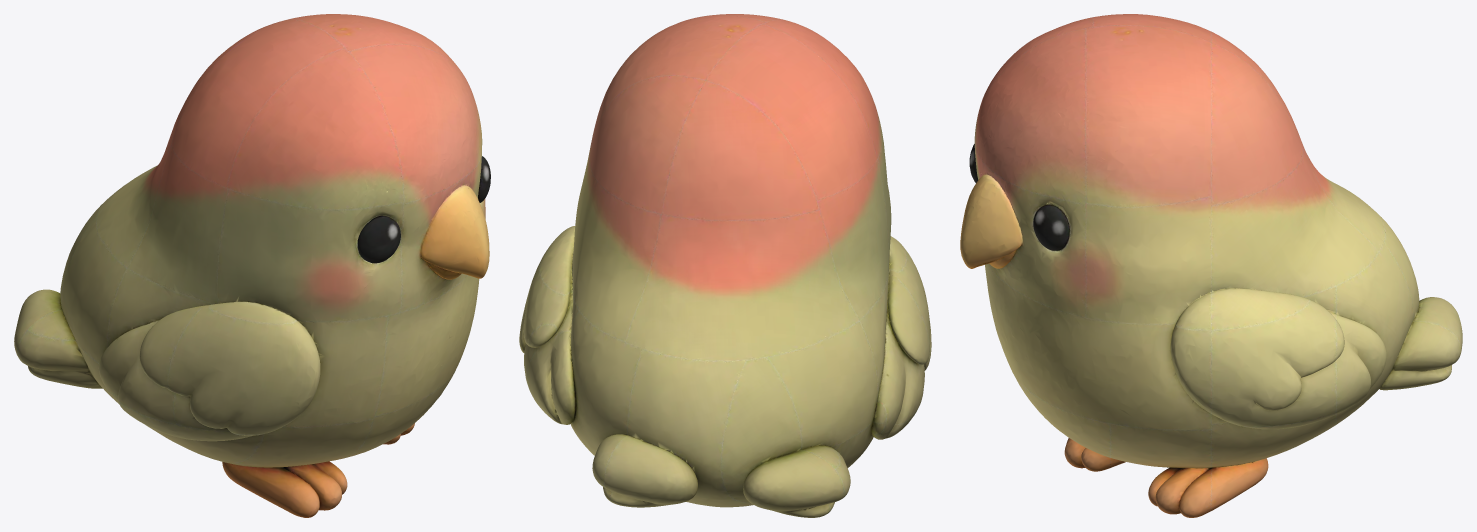
Rendered from model-mobile-v001.glb.
3 renders of one model, left to right at view 1: azimuth 30°, elevation 25°; view 2: azimuth 150°, elevation 25°; view 3: azimuth 270°, elevation 25°, orthographic. The views are drawn at different scales.
Parts seen in each view (by area): view 1: tmpum7r6r4f.obj; view 2: tmpum7r6r4f.obj; view 3: tmpum7r6r4f.obj.
Boxes of the visible parts, x1,y1,x2,y2 form: tmpum7r6r4f.obj: (14, 14, 490, 517); tmpum7r6r4f.obj: (519, 14, 931, 517); tmpum7r6r4f.obj: (960, 14, 1462, 517).
Size of the model in its own units: 1.43 by 1.67 by 1.67.
Materials: 1 (1 with a texture image).
